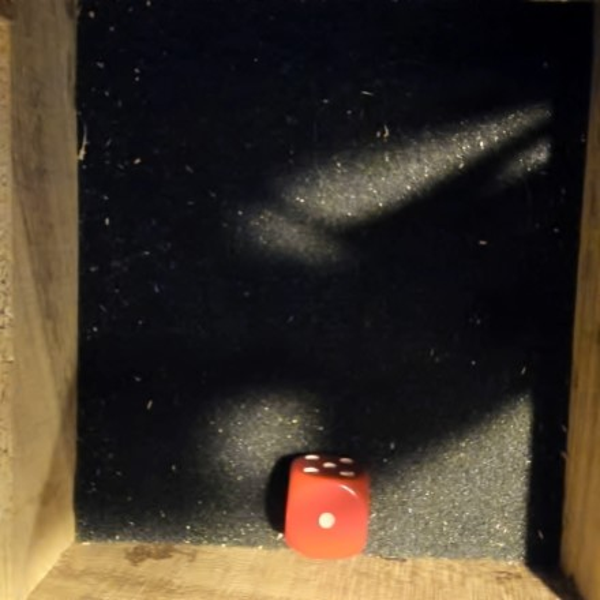red_die_pip1: (282, 451, 373, 560)
